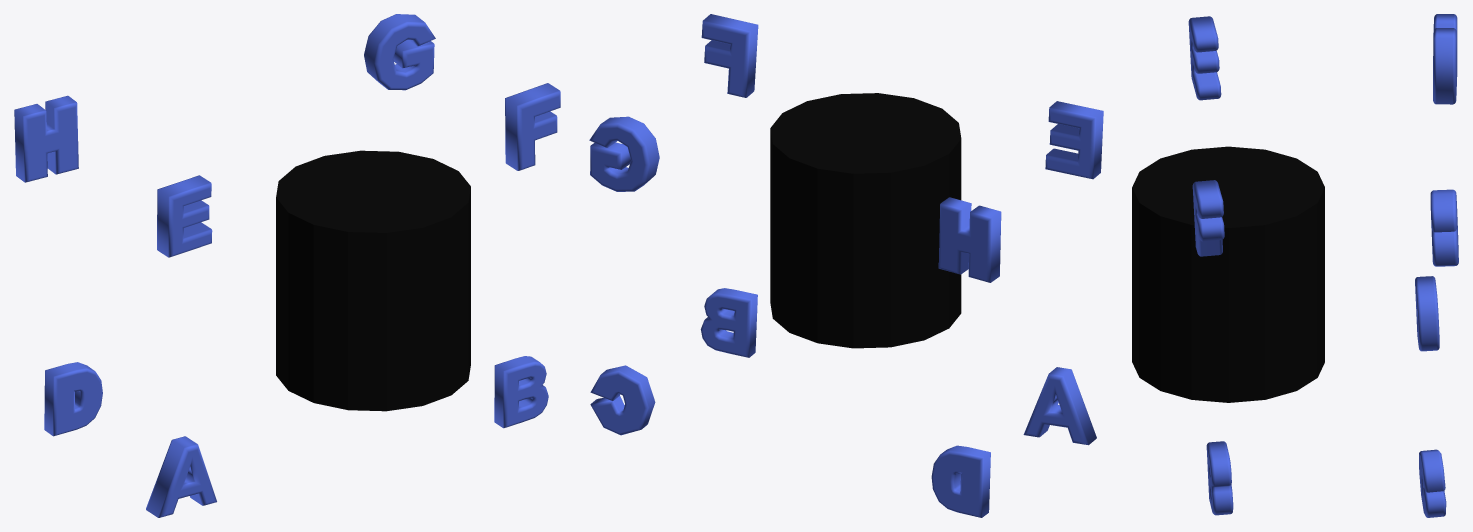
File: tabung7.glb
The picture shows the model from 3 angles, left to right: view 1: azimuth 30°, elevation 25°; view 2: azimuth 150°, elevation 25°; view 3: azimuth 270°, elevation 25°; orthographic projection. The views are drawn at different scales.
Parts seen in each view (by area): view 1: Cylinder, Text.007, Text.006, Text.004, Text.003, Text.005, Text.009, Text.001; view 2: Cylinder, Text.007, Text.006, Text.004, Text.003, Text.005, Text.002, Text.001, Text.009; view 3: Cylinder, Text.004, Text.007, Text.005, Text.006, Text.001, Text.003, Text.002.
Boxes of the visible parts, x1,y1,x2,y2 form: Cylinder: (276,150,470,411); Text.007: (14,95,78,182); Text.006: (364,14,435,90); Text.004: (157,175,212,257); Text.003: (44,362,102,436); Text.005: (505,83,560,170); Text.009: (146,436,216,517); Text.001: (494,356,548,428); Cylinder: (770,93,961,348); Text.007: (938,197,1001,282); Text.006: (589,116,659,191); Text.004: (1045,101,1103,179); Text.003: (931,445,990,517); Text.005: (701,14,758,97); Text.002: (590,365,655,435); Text.001: (700,288,757,357); Text.009: (1023,367,1096,445); Cylinder: (1132,146,1324,402); Text.004: (1188,16,1221,100); Text.007: (1433,14,1457,104); Text.005: (1192,180,1224,256); Text.006: (1430,189,1458,266); Text.001: (1206,441,1233,515); Text.003: (1415,276,1439,351); Text.002: (1419,449,1446,517).
Size of the model in its own units: 4.9 by 3.77 by 3.39.
